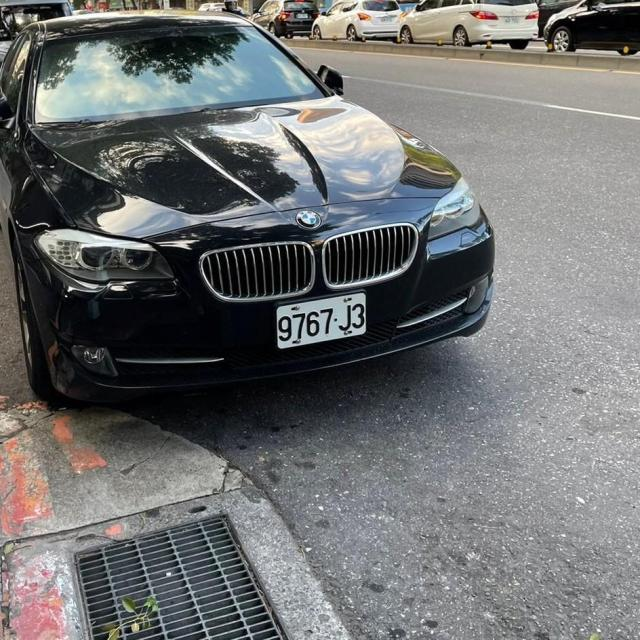W: (264, 282, 376, 352), (501, 12, 523, 27), (375, 12, 397, 26)
